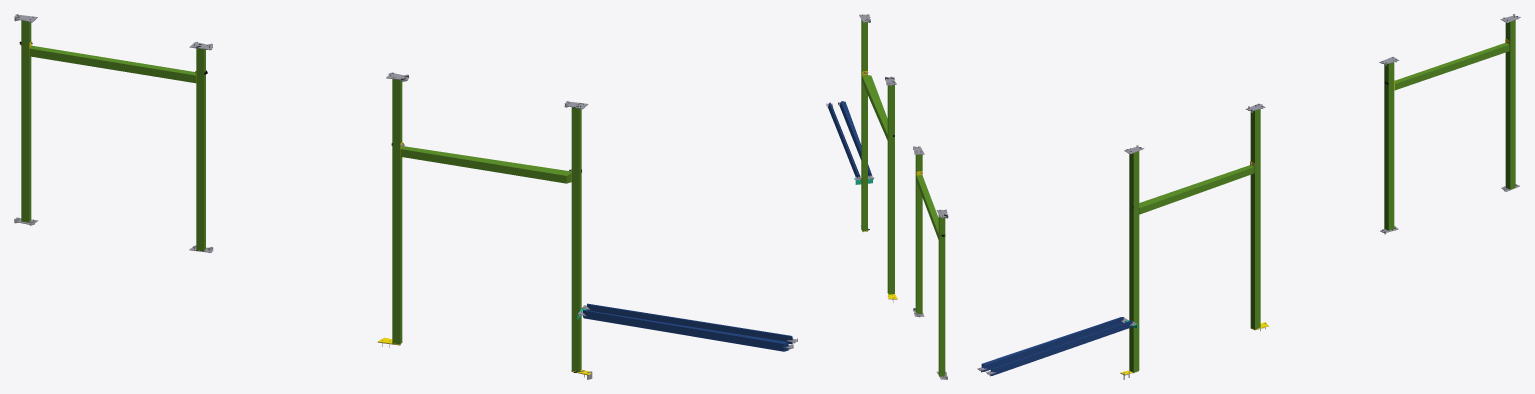
Rendered from Lot 4.glb.
3 renders of one model, left to right at view 1: azimuth 30°, elevation 25°; view 2: azimuth 150°, elevation 25°; view 3: azimuth 270°, elevation 25°, orthographic. The views are drawn at different scales.
Parts seen in each view (by area): view 1: Fake; view 2: Fake; view 3: Fake.
Part boxes in pixels (x1,y1,x2,y2): Fake: (14, 14, 797, 379); Fake: (826, 14, 948, 379); Fake: (977, 14, 1520, 379).
Bounding box in the file's own units: 6.31 × 3.53 × 7.66.
